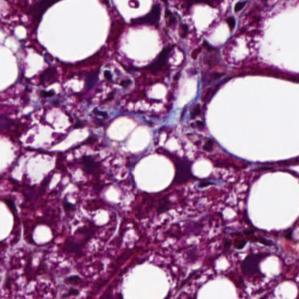inflammation: (208, 228, 265, 280), (90, 62, 137, 109), (55, 196, 93, 254), (177, 100, 218, 152), (219, 0, 248, 33)
